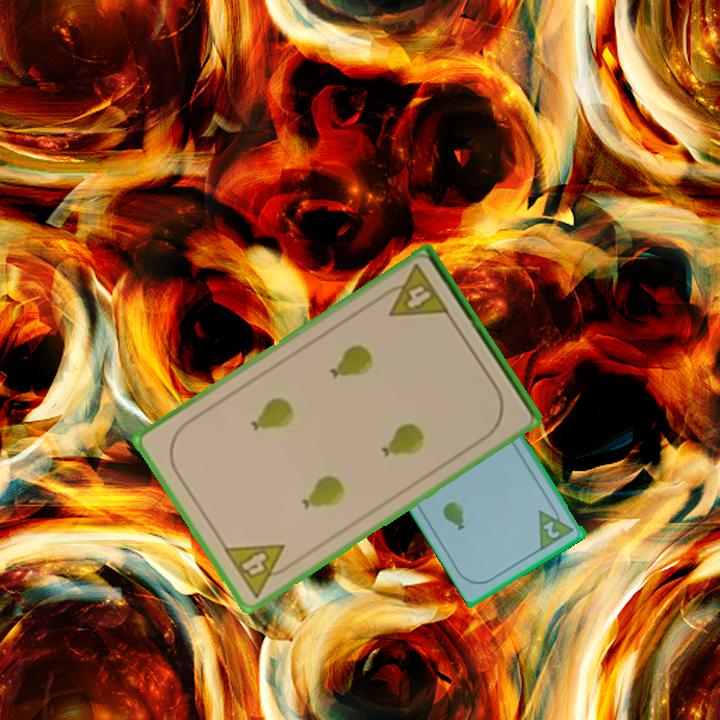2p: (540, 517, 563, 542)
4p: (220, 540, 299, 601), (376, 261, 453, 321)
